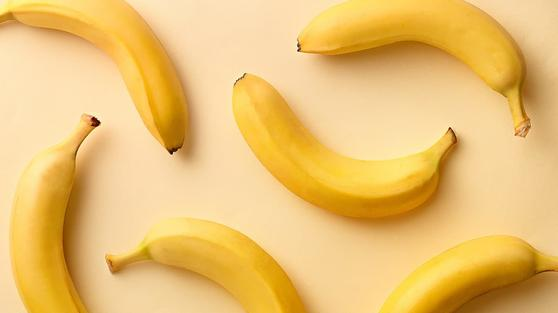banana: (215, 73, 469, 226), (287, 1, 535, 137), (1, 1, 196, 156), (100, 197, 312, 313), (5, 109, 111, 313)
